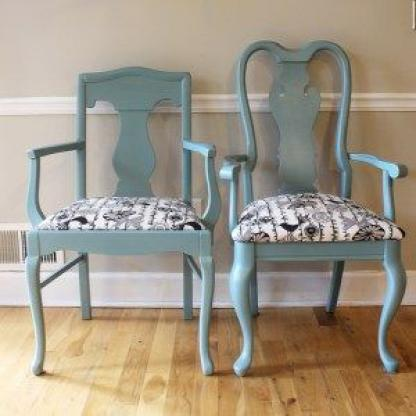chair: (29, 44, 219, 387), (226, 35, 409, 383)
